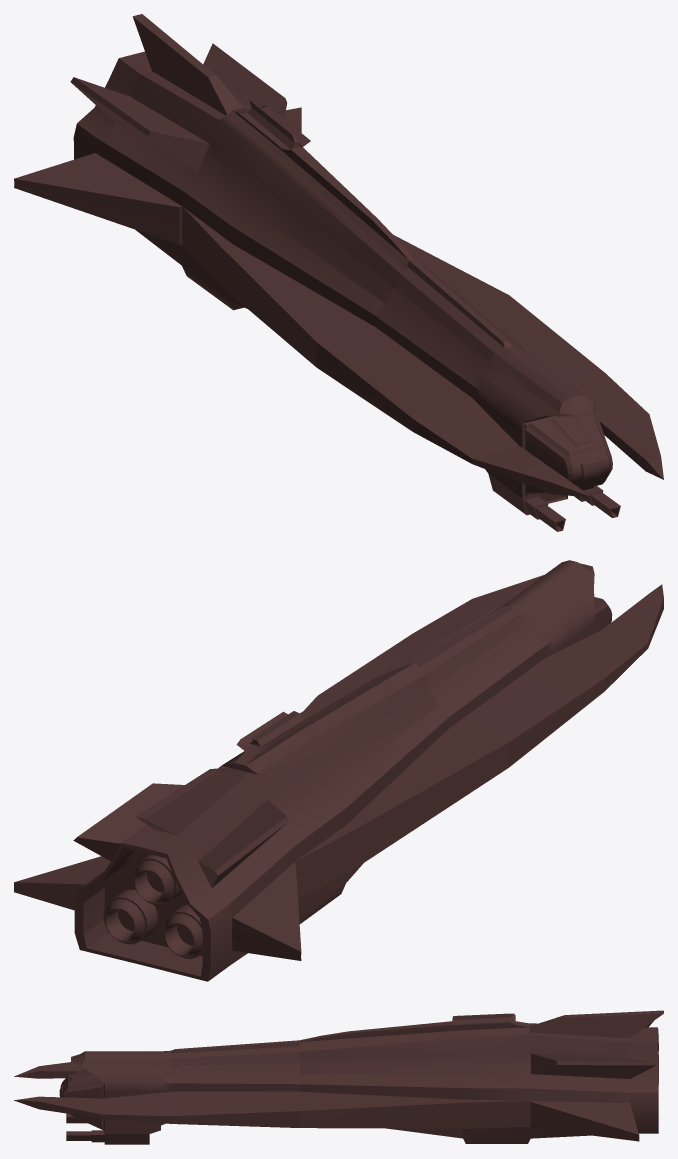
File: EnemyCapitalSHipUV.fbx
3 views of the same model, one above another, from view 1: azimuth 30°, elevation 25°; view 2: azimuth 150°, elevation 25°; view 3: azimuth 270°, elevation 25° (orthographic). The views are drawn at different scales.
Parts seen in each view (by area): view 1: polySurface15, TopThing, ThrustersEnemyCapitalShip, Canons; view 2: polySurface15, ThrustersEnemyCapitalShip, TopThing; view 3: polySurface15, ThrustersEnemyCapitalShip, TopThing, Canons.
Part boxes in pixels (left/top/right/bottom): polySurface15: left=14, top=14, right=663, bottom=498; TopThing: left=233, top=99, right=414, bottom=260; ThrustersEnemyCapitalShip: left=73, top=51, right=151, bottom=159; Canons: left=488, top=474, right=620, bottom=531; polySurface15: left=14, top=560, right=663, bottom=965; ThrustersEnemyCapitalShip: left=74, top=827, right=232, bottom=981; TopThing: left=235, top=661, right=414, bottom=765; polySurface15: left=14, top=1010, right=663, bottom=1143; ThrustersEnemyCapitalShip: left=629, top=1027, right=658, bottom=1133; TopThing: left=299, top=1013, right=529, bottom=1041; Canons: left=66, top=1113, right=149, bottom=1144.
Size of the model in its own units: 594 by 367 by 1745.
